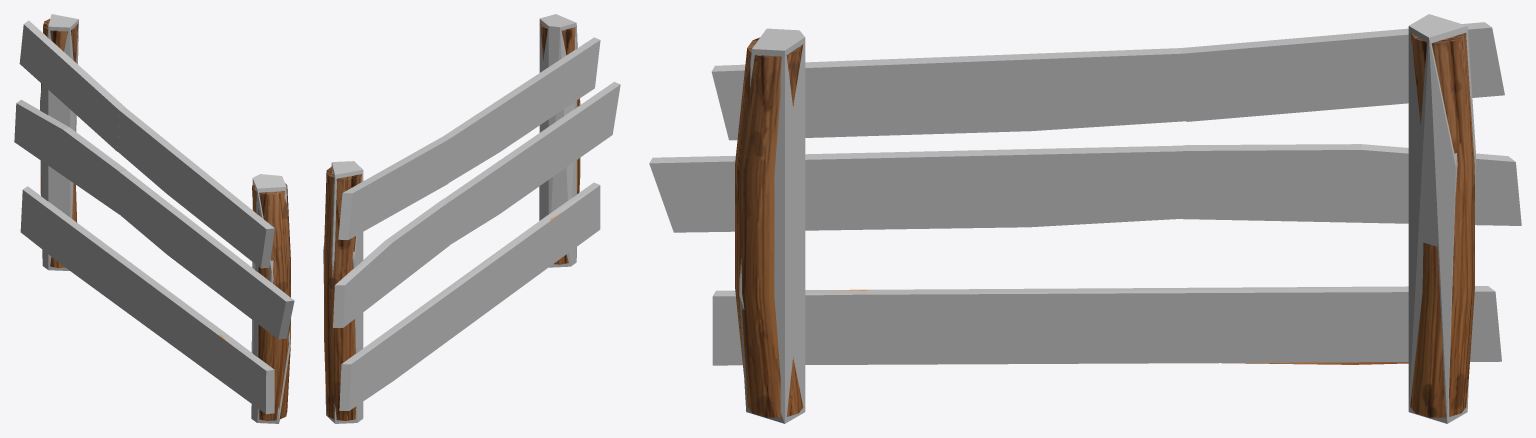
Rendered from SM_Fences03_1.fbx.
3 views of the same model, side by side, from view 1: azimuth 30°, elevation 25°; view 2: azimuth 150°, elevation 25°; view 3: azimuth 270°, elevation 25° (orthographic). The views are drawn at different scales.
Visible parts, largest first — view 1: SM_Fences03_1_ConvexHulls, SM_Fences03_1; view 2: SM_Fences03_1_ConvexHulls, SM_Fences03_1; view 3: SM_Fences03_1_ConvexHulls, SM_Fences03_1.
Boxes of the visible parts, left/top/right/bottom form: SM_Fences03_1_ConvexHulls: left=14, top=14, right=294, bottom=423; SM_Fences03_1: left=40, top=19, right=290, bottom=420; SM_Fences03_1_ConvexHulls: left=323, top=14, right=620, bottom=423; SM_Fences03_1: left=324, top=23, right=580, bottom=420; SM_Fences03_1_ConvexHulls: left=649, top=14, right=1521, bottom=423; SM_Fences03_1: left=735, top=33, right=1474, bottom=417.
Bounding box in the file's own units: 10.47 × 132 × 64.47.
Materials: 2 (1 with a texture image).
